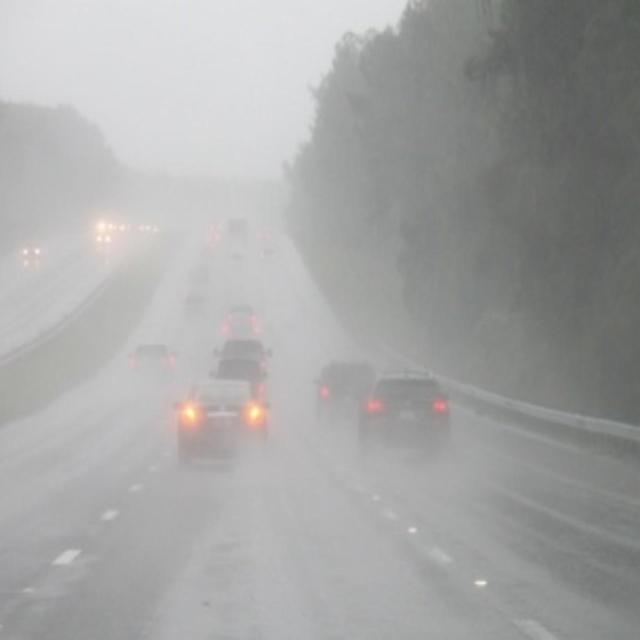Car: (173, 377, 273, 465), (355, 371, 451, 462), (315, 359, 379, 417), (208, 358, 268, 408), (124, 342, 181, 382), (22, 244, 41, 260)
